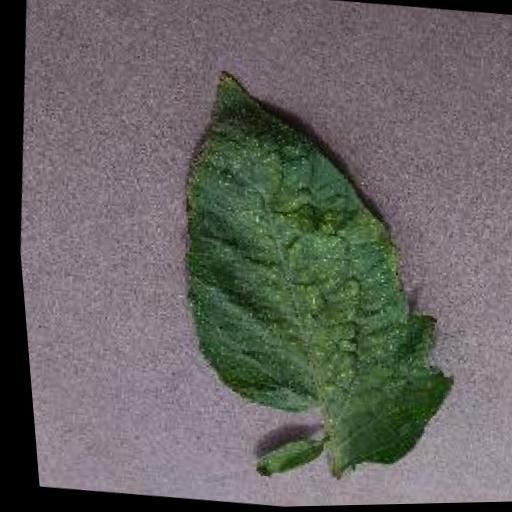Spider Mites: (143, 58, 483, 495)
